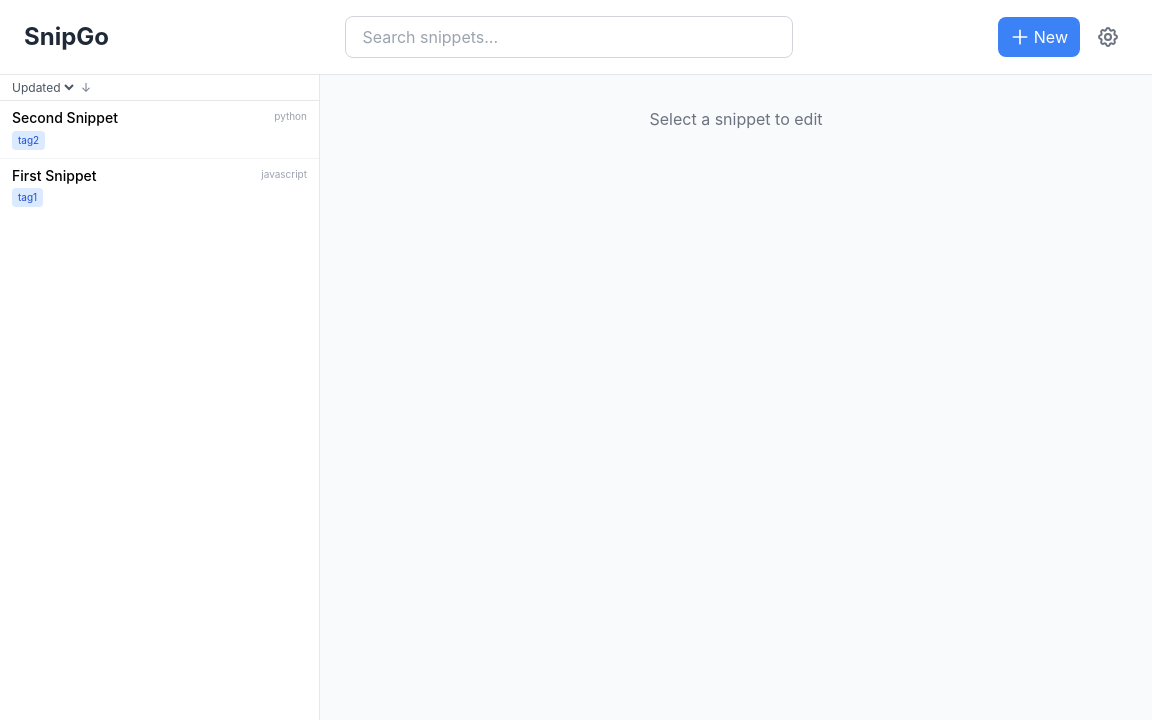
Test: App › snippet 선택 › snippet 선택 후 에디터에 내용이 표시된다
Click the heading "First Snippet": [54, 175] box x1=12 y1=166 x2=96 y2=184
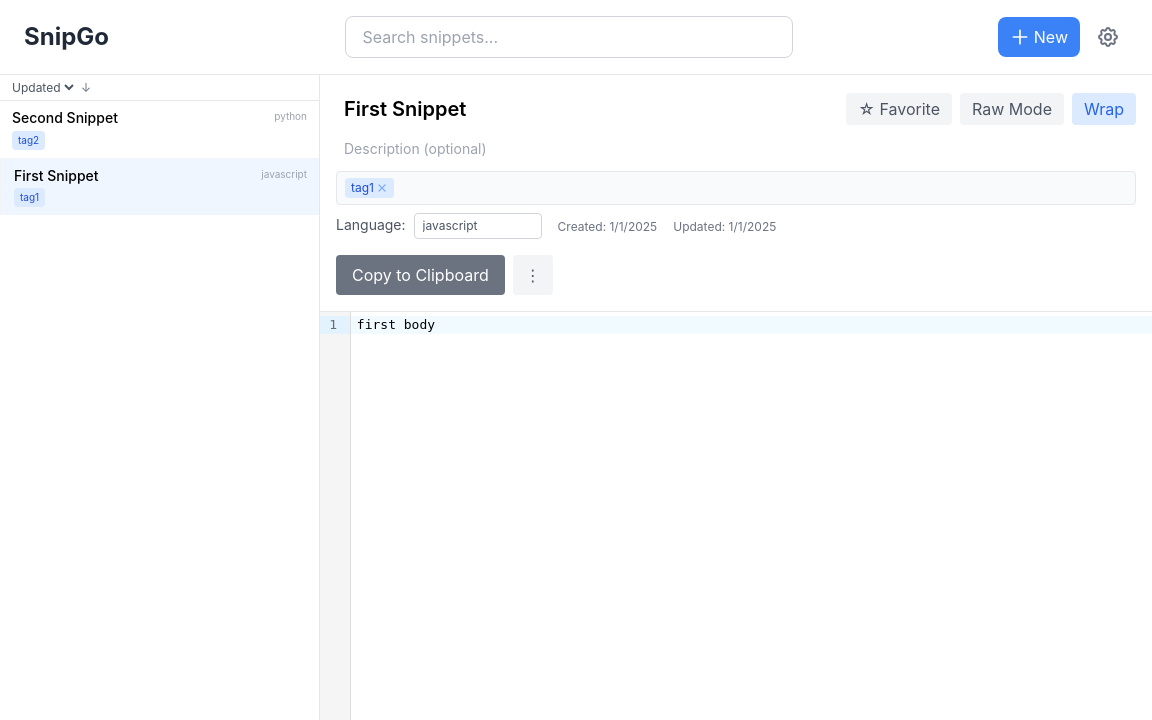
expect the 1st field showing "First Snippet" is shown: met, box x1=336 y1=91 x2=830 y2=127
